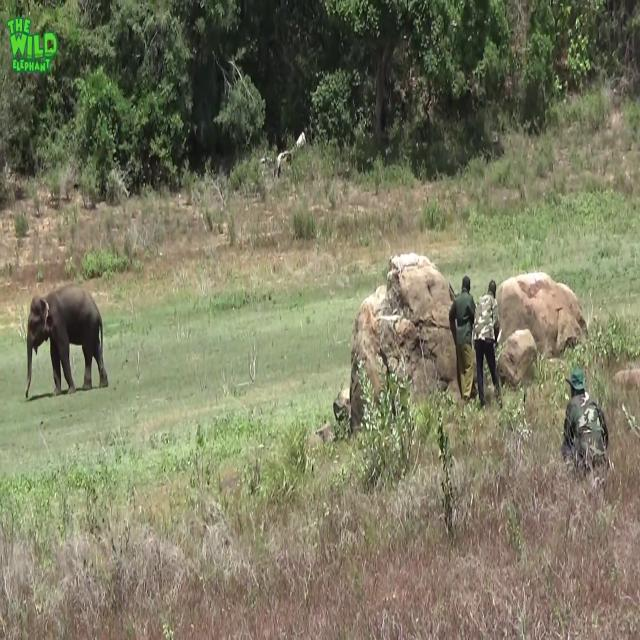Elephant: (25, 283, 108, 400)
person: (561, 367, 609, 483), (472, 279, 502, 409), (448, 275, 478, 404)
